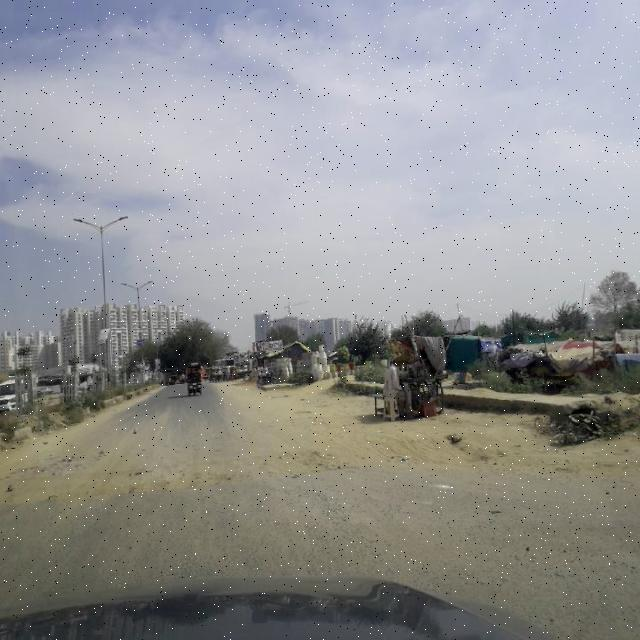D40: (1, 439, 340, 526)
